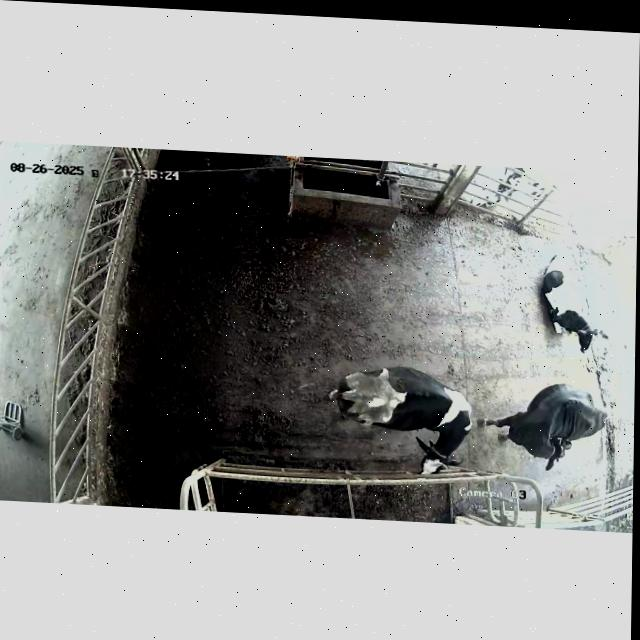stand: (329, 366, 472, 473), (479, 384, 607, 470)
